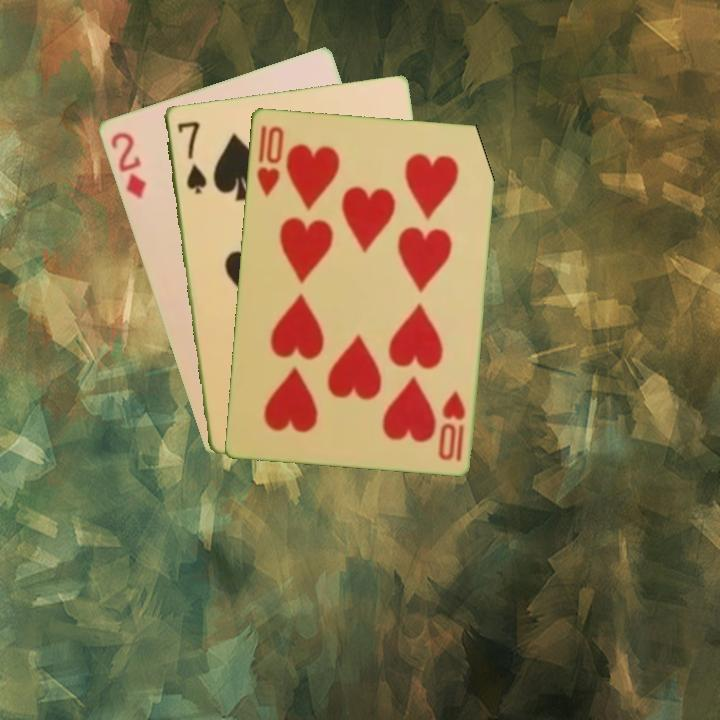10h: (434, 387, 468, 464), (253, 122, 287, 198)
2d: (106, 128, 149, 202)
7s: (173, 117, 209, 197)
